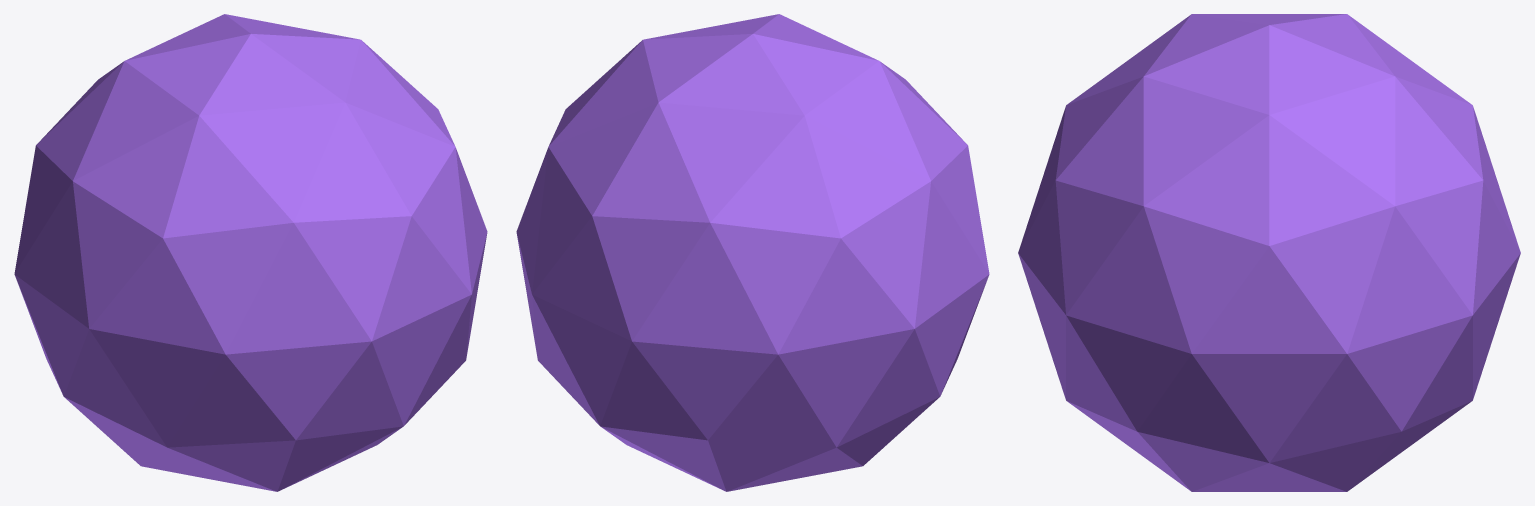
Rendered from SoulOrb 1.obj.
3 views of the same model, side by side, from view 1: azimuth 30°, elevation 25°; view 2: azimuth 150°, elevation 25°; view 3: azimuth 270°, elevation 25° (orthographic). The views are drawn at different scales.
Visible parts, largest first — view 1: SoulOrb_Icosphere.001; view 2: SoulOrb_Icosphere.001; view 3: SoulOrb_Icosphere.001.
Boxes of the visible parts, left/top/right/bottom form: SoulOrb_Icosphere.001: left=14, top=14, right=487, bottom=491; SoulOrb_Icosphere.001: left=516, top=14, right=989, bottom=491; SoulOrb_Icosphere.001: left=1018, top=14, right=1520, bottom=491.
Size of the model in its own units: 0.2459 by 0.2586 by 0.2586.
